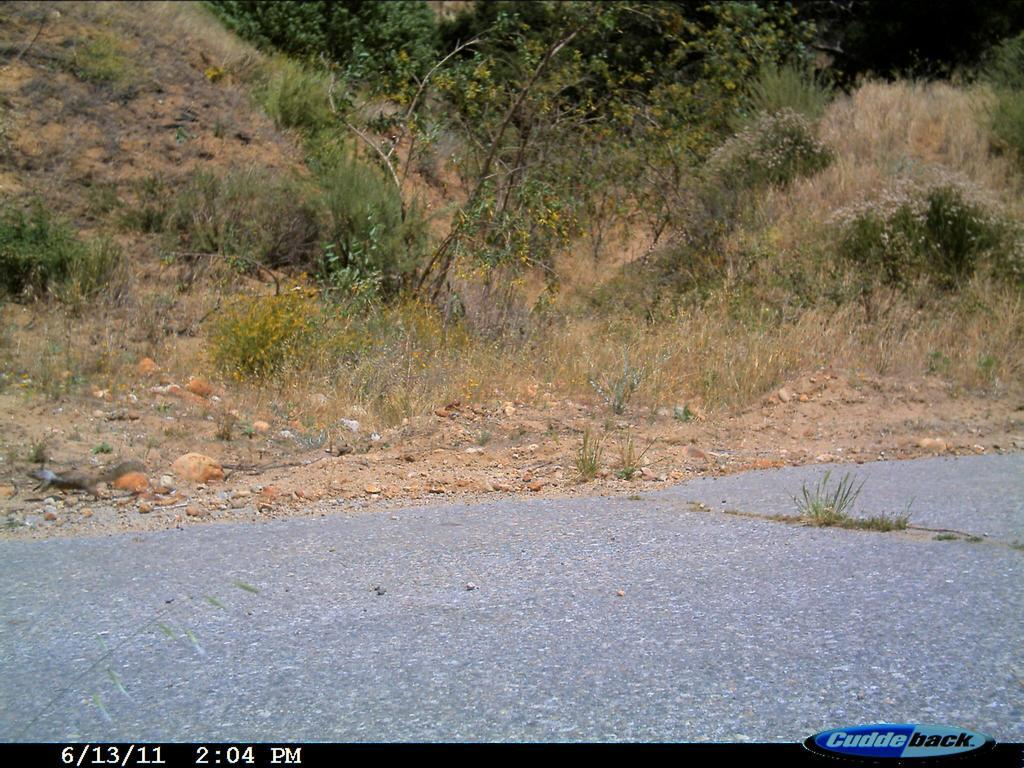squirrel: (20, 454, 150, 507)
